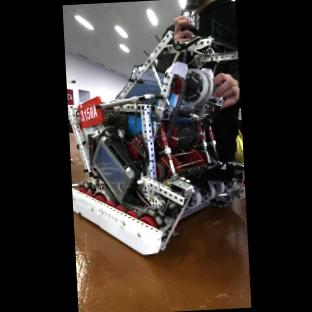Robot: (66, 31, 243, 254)
